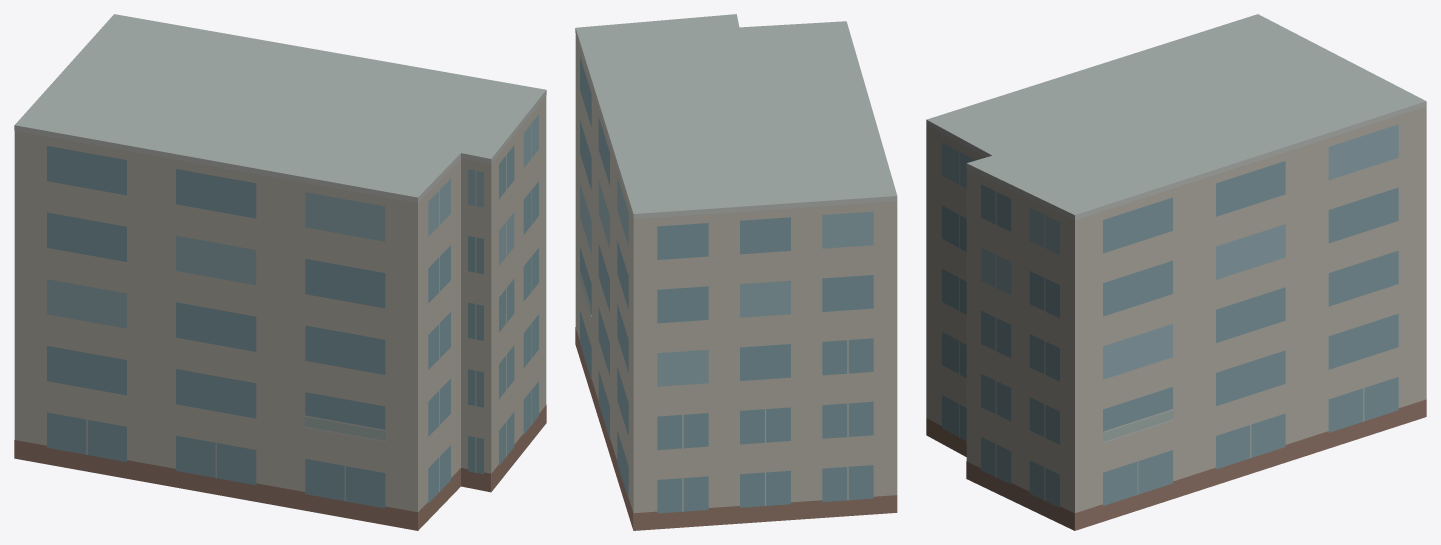
File: survey-upis-33019246.glb
The picture shows the model from 3 angles, left to right: view 1: azimuth 30°, elevation 25°; view 2: azimuth 150°, elevation 25°; view 3: azimuth 270°, elevation 25°; orthographic projection. The views are drawn at different scales.
Visible parts, largest first — view 1: survey-upis-33019246.tmp; view 2: survey-upis-33019246.tmp; view 3: survey-upis-33019246.tmp.
Boxes of the visible parts, left/top/right/bottom form: survey-upis-33019246.tmp: left=14, top=14, right=546, bottom=530; survey-upis-33019246.tmp: left=575, top=14, right=897, bottom=530; survey-upis-33019246.tmp: left=926, top=14, right=1426, bottom=530.
Size of the model in its own units: 20.17 by 14.75 by 21.18.
